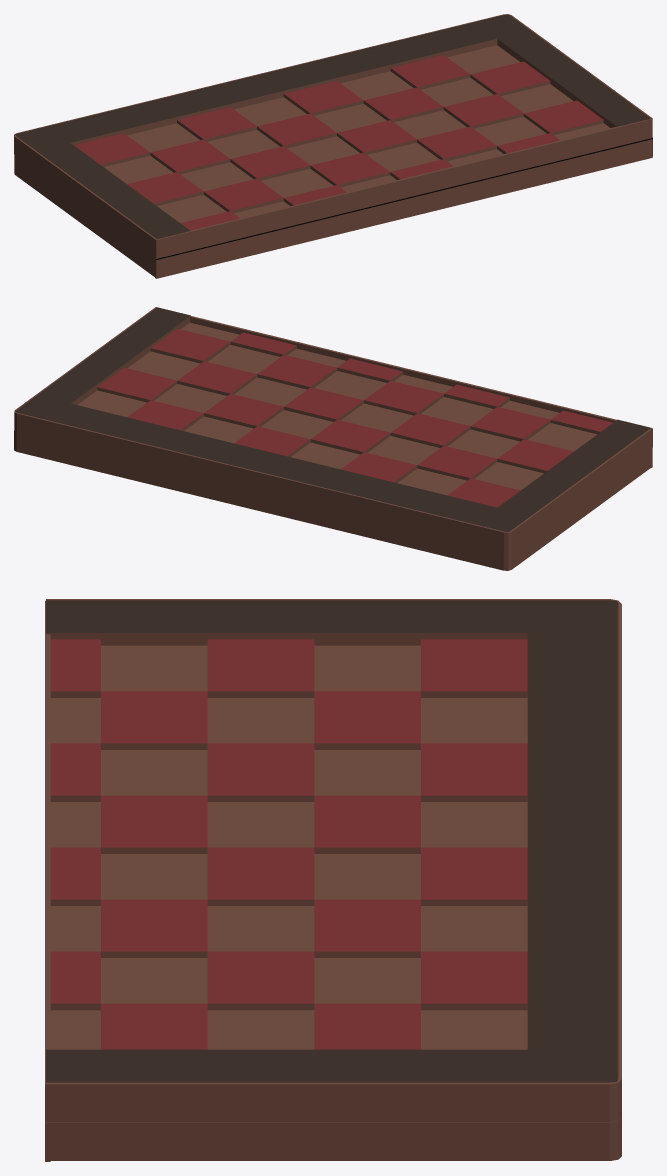
The model's file is ChessBoard.fbx.
3 renders of one model, top to bottom at view 1: azimuth 30°, elevation 25°; view 2: azimuth 150°, elevation 25°; view 3: azimuth 270°, elevation 25°, orthographic. The views are drawn at different scales.
Parts seen in each view (by area): view 1: Cube, Cube.002, Cube.001; view 2: Cube, Cube.001, Cube.002; view 3: Cube, Cube.001, Cube.002.
Part boxes in pixels (x1,y1,x2,y2): Cube: (14, 14, 652, 258); Cube.002: (155, 118, 652, 278); Cube.001: (14, 137, 652, 277); Cube: (14, 307, 652, 551); Cube.001: (14, 431, 652, 570); Cube.002: (190, 316, 652, 467); Cube: (46, 599, 621, 1122); Cube.001: (46, 1117, 621, 1160); Cube.002: (45, 600, 50, 1161).
Bounding box in the file's own units: 50.02 × 3.77 × 25.12.
